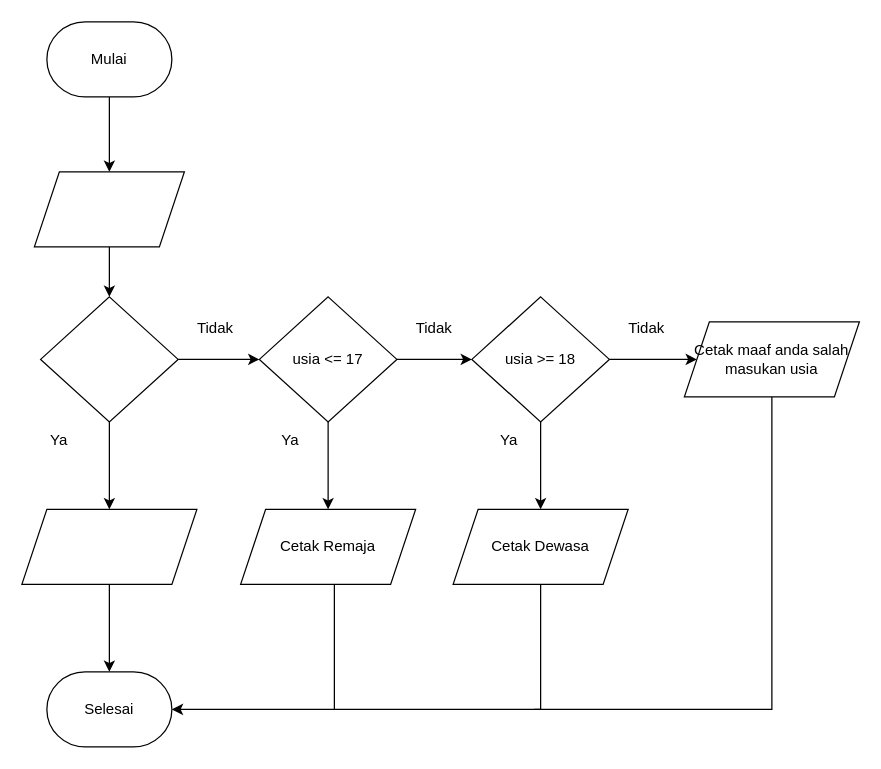
Some shapes in this 881 by 769 pixel diagram are drawn without their labels. Each missing label, with the box of its shape:
Cetak Anak anak: (21, 508, 197, 584)
Input usia: (33, 171, 184, 247)
usia < 12: (39, 296, 178, 422)
